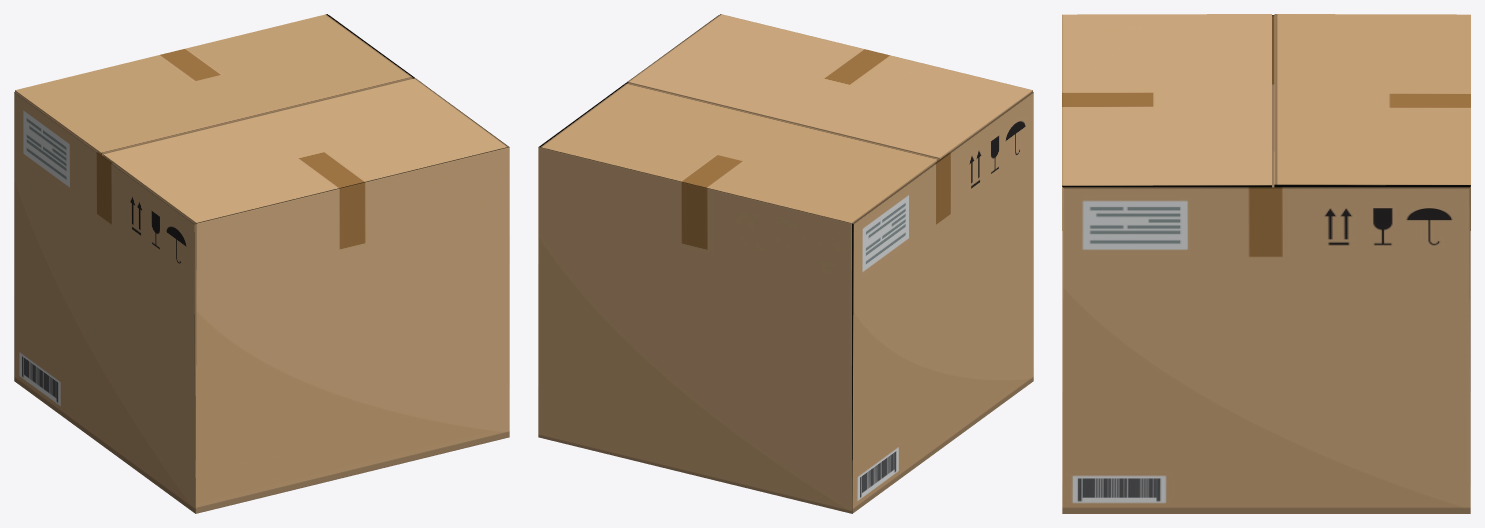
3 renders of one model, left to right at view 1: azimuth 30°, elevation 25°; view 2: azimuth 150°, elevation 25°; view 3: azimuth 270°, elevation 25°, orthographic. The views are drawn at different scales.
Parts seen in each view (by area): view 1: Box.Big; view 2: Box.Big; view 3: Box.Big.
Part boxes in pixels (x1,y1,x2,y2): Box.Big: (14, 14, 509, 513); Box.Big: (538, 14, 1033, 513); Box.Big: (1062, 14, 1470, 513).
Size of the model in its own units: 1.71 by 1.51 by 1.71.
1 material, 1 textured.
